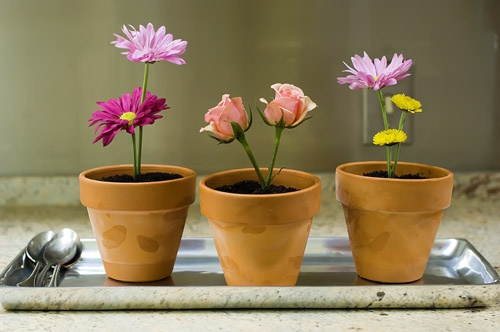flowerpot: (334, 161, 454, 285), (78, 165, 198, 284), (199, 168, 320, 285)
